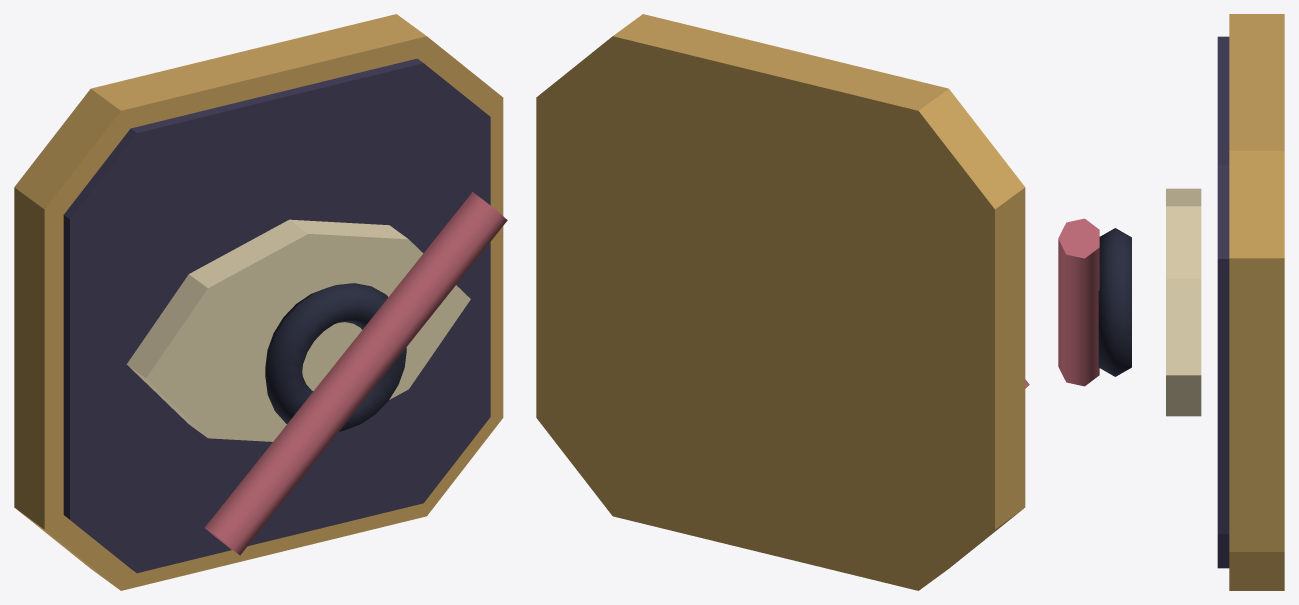
The model's file is blind.fbx.
3 views of the same model, side by side, from view 1: azimuth 30°, elevation 25°; view 2: azimuth 150°, elevation 25°; view 3: azimuth 270°, elevation 25° (orthographic). The views are drawn at different scales.
Visible parts, largest first — view 1: blind; view 2: blind; view 3: blind.
Part boxes in pixels (box(x1,y1,x2,y2)): blind: box(14, 14, 507, 590); blind: box(536, 14, 1029, 590); blind: box(1058, 14, 1284, 590).
Size of the model in its own units: 0.96 by 0.96 by 0.448.
